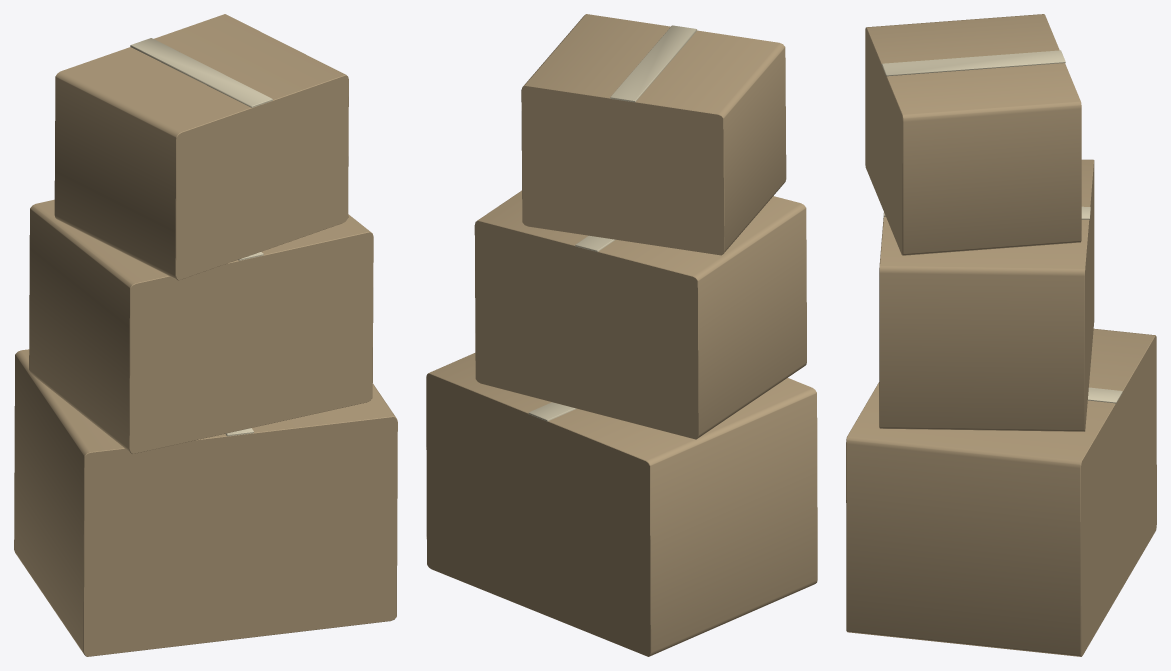
The model's file is LV_cardboard_stack.fbx.
3 renders of one model, left to right at view 1: azimuth 30°, elevation 25°; view 2: azimuth 150°, elevation 25°; view 3: azimuth 270°, elevation 25°, orthographic. The views are drawn at different scales.
Parts seen in each view (by area): view 1: LV_cardboard_stack; view 2: LV_cardboard_stack; view 3: LV_cardboard_stack.
Part boxes in pixels (<box>): LV_cardboard_stack: <box>14,14,397,656</box>; LV_cardboard_stack: <box>426,14,817,656</box>; LV_cardboard_stack: <box>846,14,1156,656</box>.
Size of the model in its own units: 0.601 by 0.932 by 0.5135.
